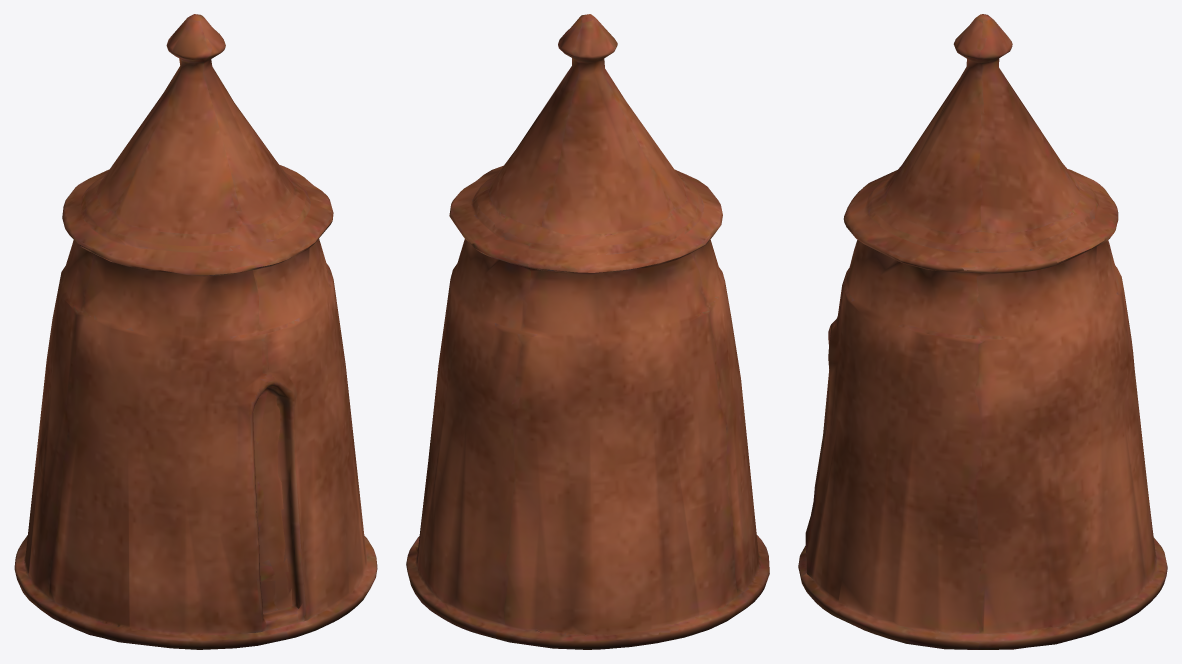
The model's file is simple-terracotta-turret-top-v001.glb.
The picture shows the model from 3 angles, left to right: view 1: azimuth 30°, elevation 25°; view 2: azimuth 150°, elevation 25°; view 3: azimuth 270°, elevation 25°; orthographic projection.
Parts seen in each view (by area): view 1: simple-terracotta-turret-top; view 2: simple-terracotta-turret-top; view 3: simple-terracotta-turret-top.
Part boxes in pixels (left/top/right/bottom): simple-terracotta-turret-top: left=14, top=14, right=377, bottom=649; simple-terracotta-turret-top: left=406, top=14, right=769, bottom=649; simple-terracotta-turret-top: left=798, top=14, right=1167, bottom=649.
Bounding box in the file's own units: 1.41 × 2.41 × 1.43.
1 material, 1 textured.
